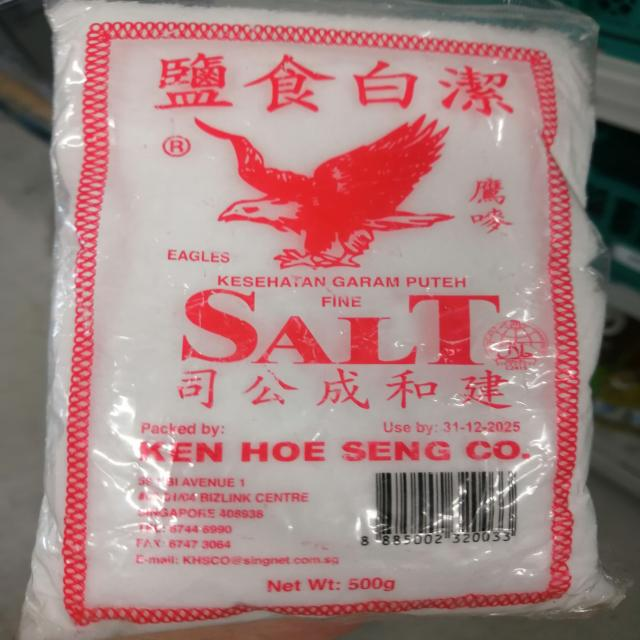object_name: (55, 1, 577, 611)
